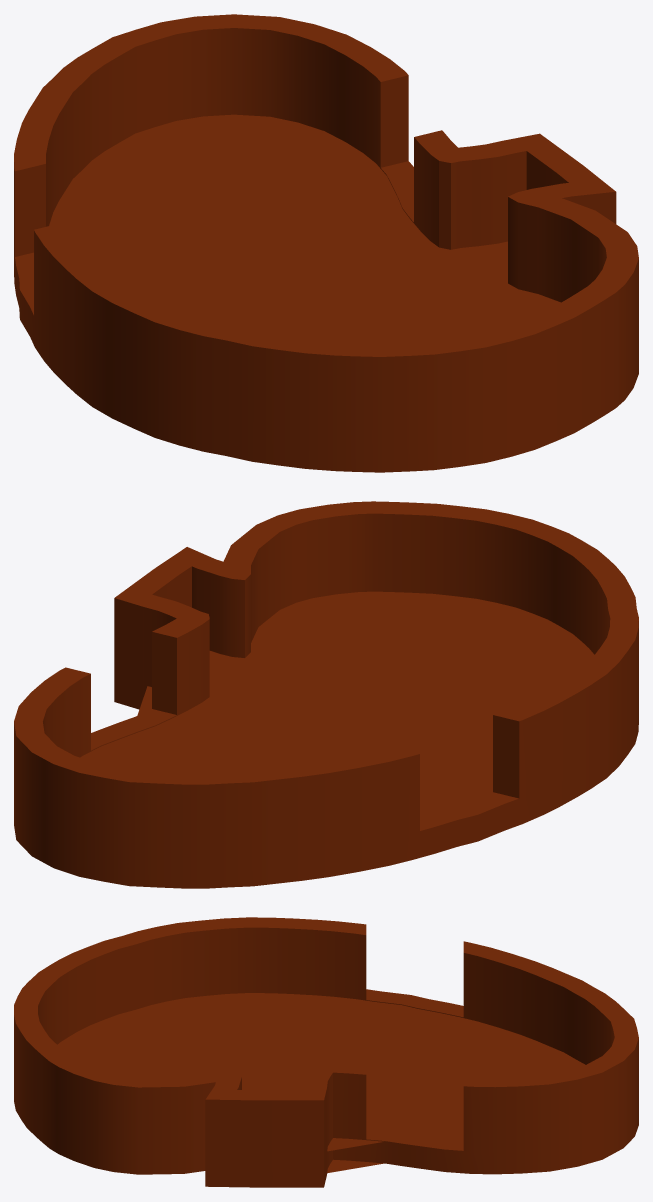
Rendered from Organ_Kidney_Left_Rectangular_Cuts.fbx.
3 renders of one model, top to bottom at view 1: azimuth 30°, elevation 25°; view 2: azimuth 150°, elevation 25°; view 3: azimuth 270°, elevation 25°, orthographic. The views are drawn at different scales.
Parts seen in each view (by area): view 1: _12_04_Extruded_Color_Kidney_No_Cuts:polySurface2; view 2: _12_04_Extruded_Color_Kidney_No_Cuts:polySurface2; view 3: _12_04_Extruded_Color_Kidney_No_Cuts:polySurface2.
Part boxes in pixels (x1=…): _12_04_Extruded_Color_Kidney_No_Cuts:polySurface2: x1=14, y1=14, x2=638, y2=472; _12_04_Extruded_Color_Kidney_No_Cuts:polySurface2: x1=14, y1=501, x2=638, y2=888; _12_04_Extruded_Color_Kidney_No_Cuts:polySurface2: x1=14, y1=917, x2=638, y2=1187.
Size of the model in its own units: 3.92 by 0.8709 by 5.66.
